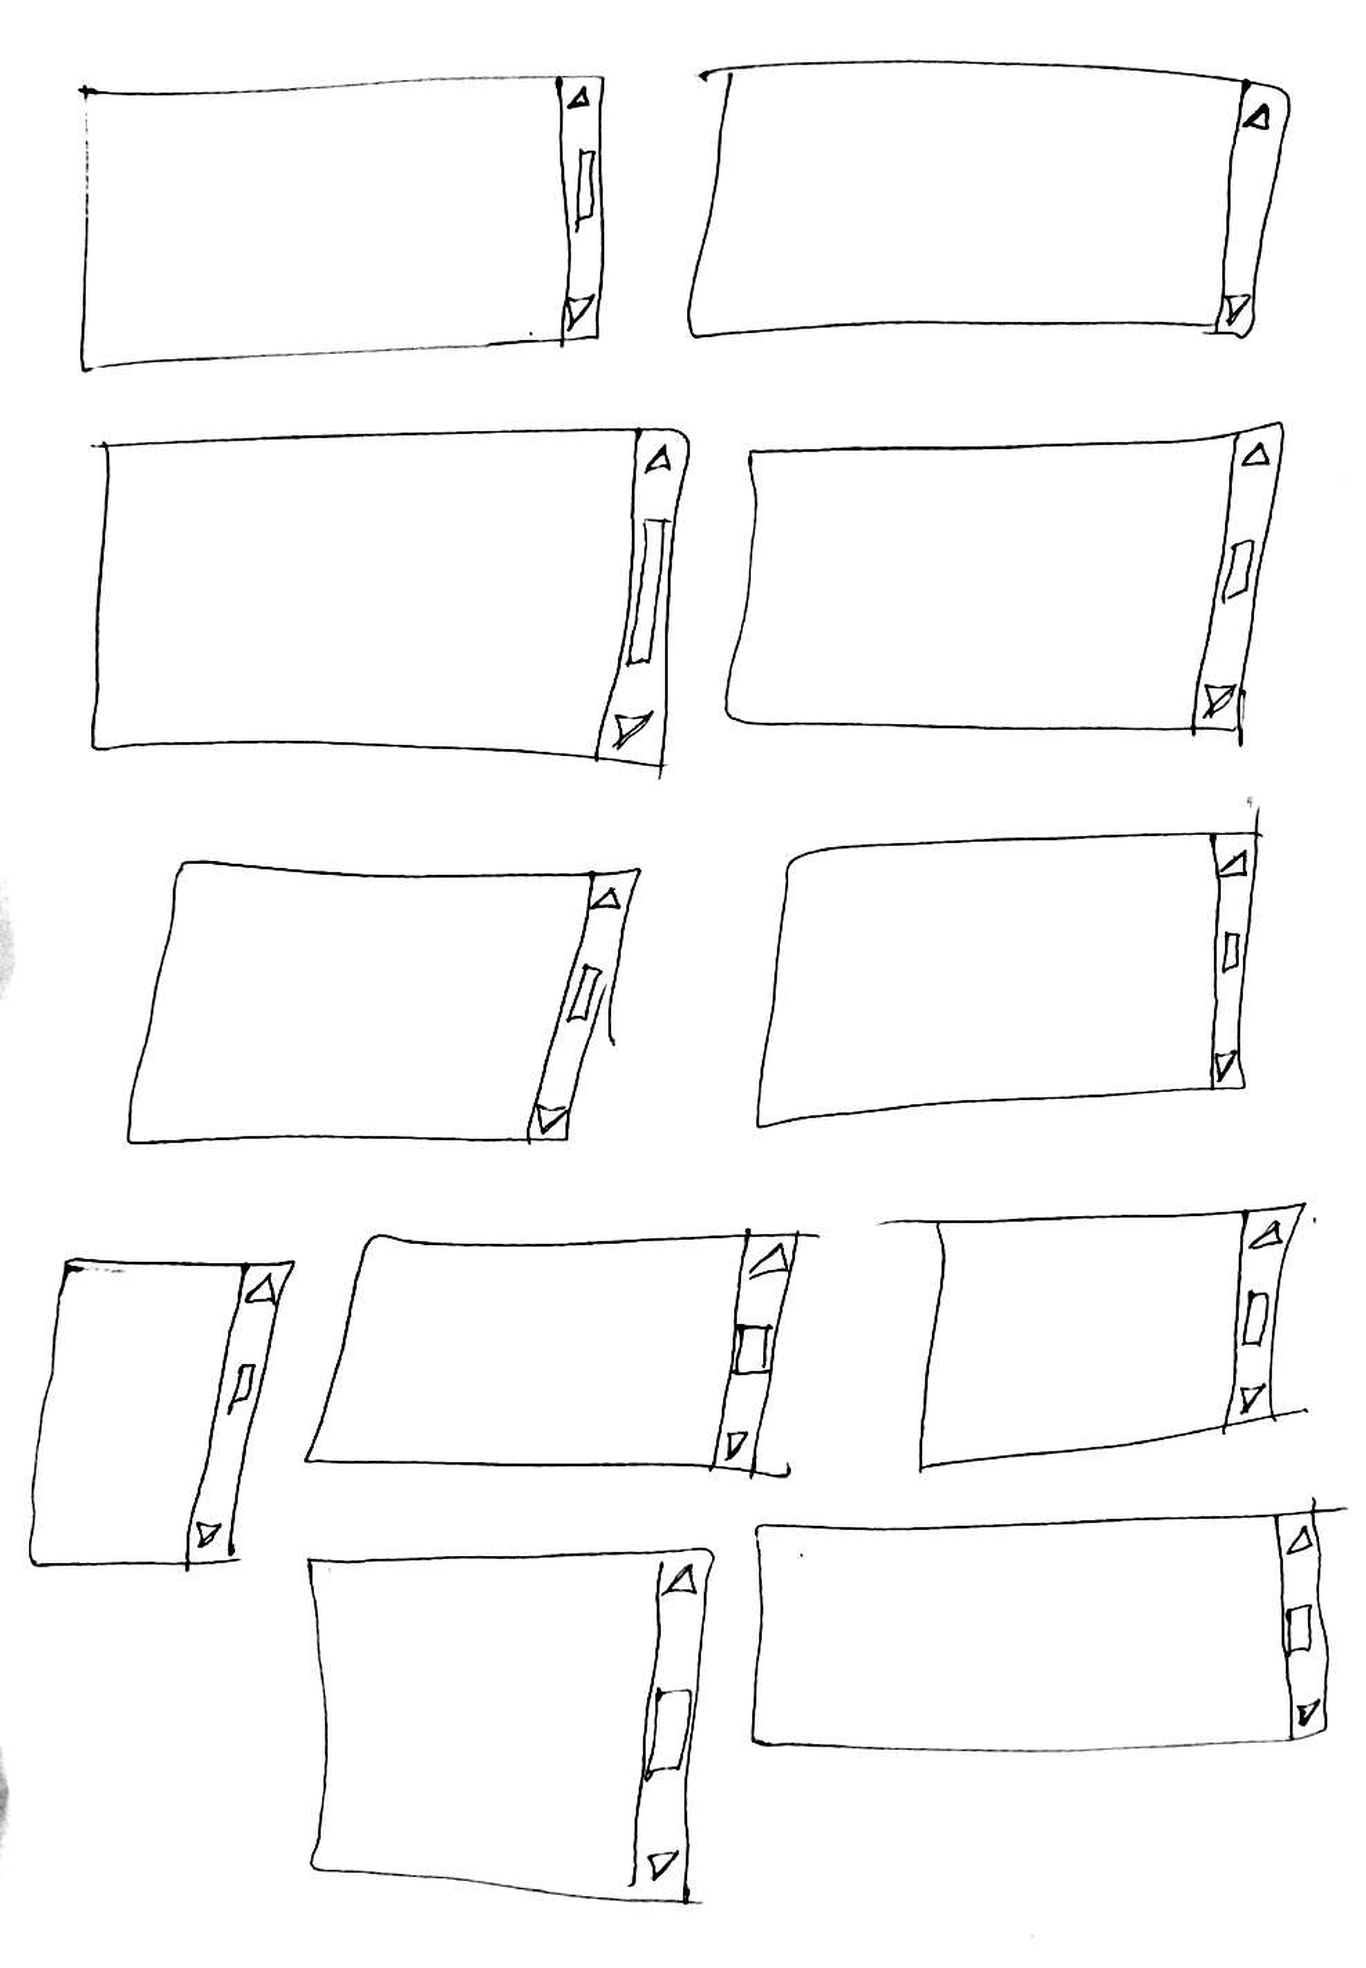Textarea: (91, 428, 690, 781), (724, 422, 1285, 748), (756, 796, 1263, 1129), (687, 60, 1291, 339), (78, 72, 604, 372), (751, 1497, 1348, 1753), (126, 860, 642, 1146), (307, 1546, 715, 1905), (304, 1228, 820, 1479), (874, 1202, 1309, 1475), (28, 1258, 296, 1572)
